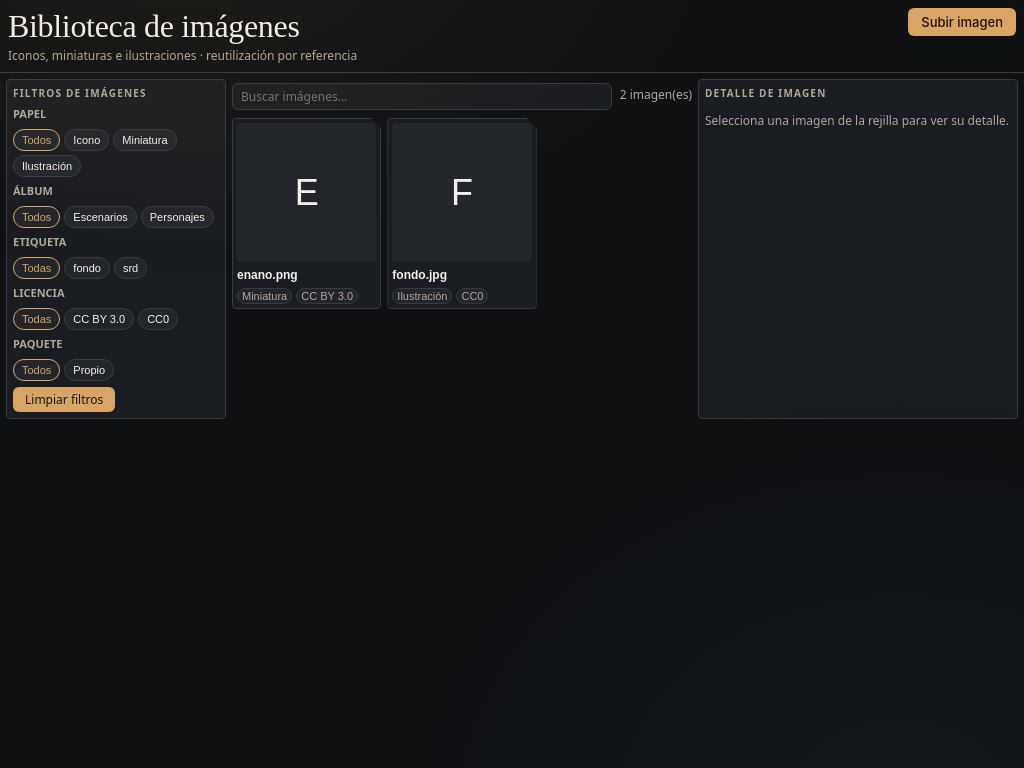
Test case: Biblioteca de imágenes real (PMB-4.7) › abre el lightbox bajo petición y elimina con confirmación
This screenshot has width=1024, height=768.
Later steps or results of the test are not shown.
Expected: the text "2 imagen(es)" is shown, [620,86,692,103]
Click the button "E enano.png Miniatura CC BY 3.0" at (307, 214), box [232,118,381,309]
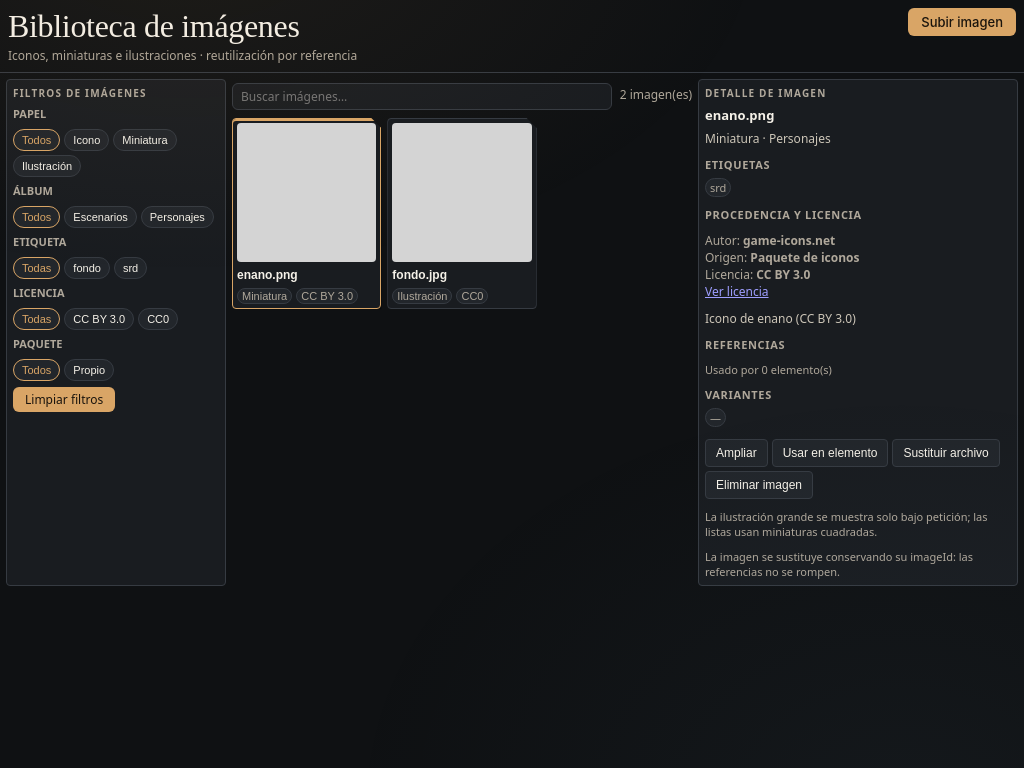
Click the button "Ampliar" at (736, 453), box [705,439,768,467]
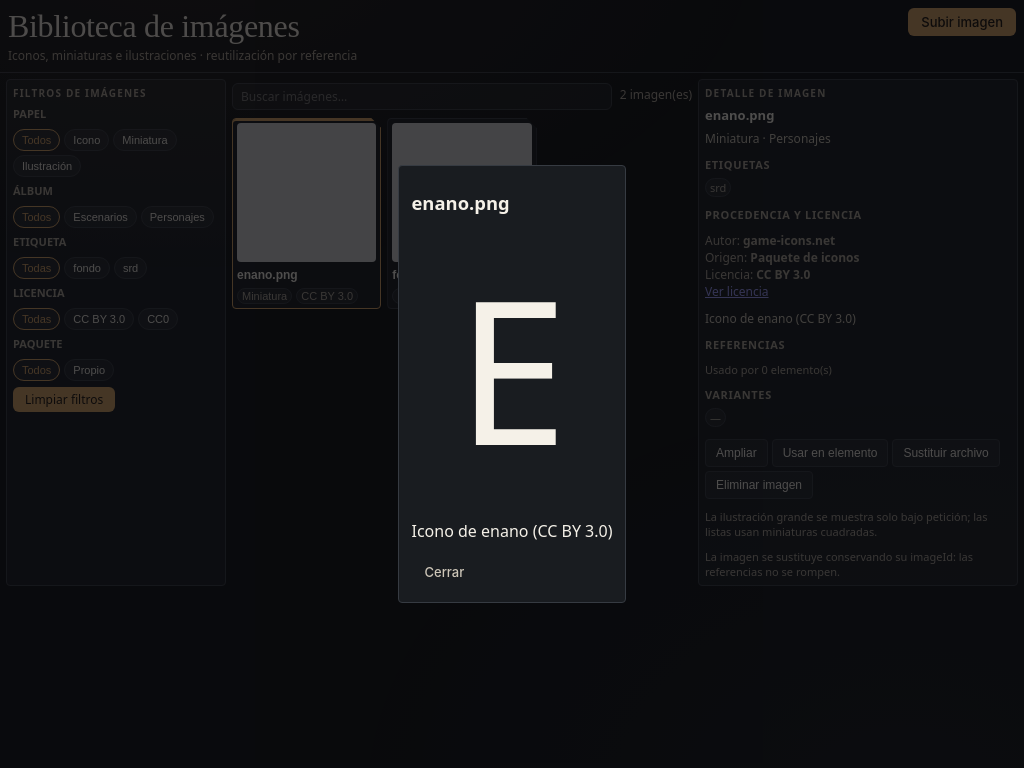
Expected: the dialog named "Vista ampliada" is shown, [398,165,626,603]
